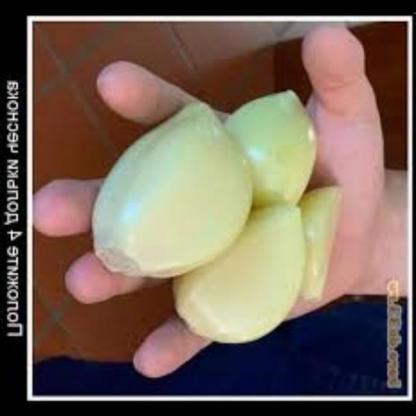garlic: (84, 102, 258, 288), (172, 189, 319, 358), (220, 90, 322, 218), (271, 170, 361, 310)
